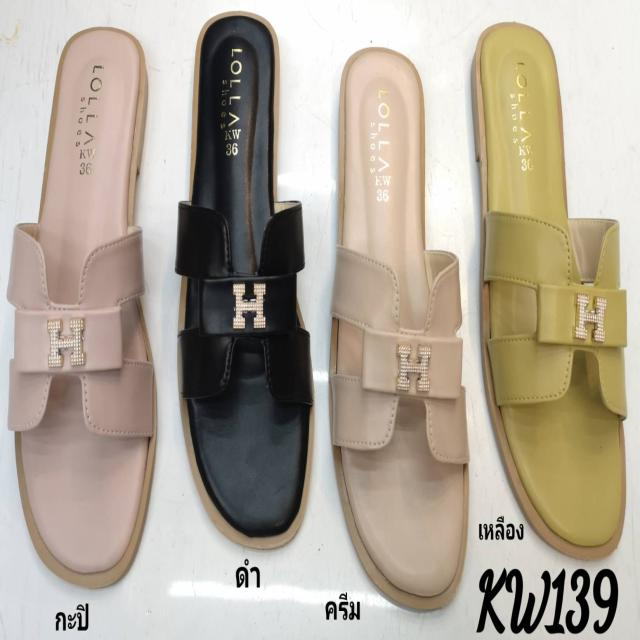black: (180, 23, 313, 550)
cream: (332, 52, 469, 607)
kapi: (15, 26, 155, 571)
yellow: (474, 27, 626, 552)
